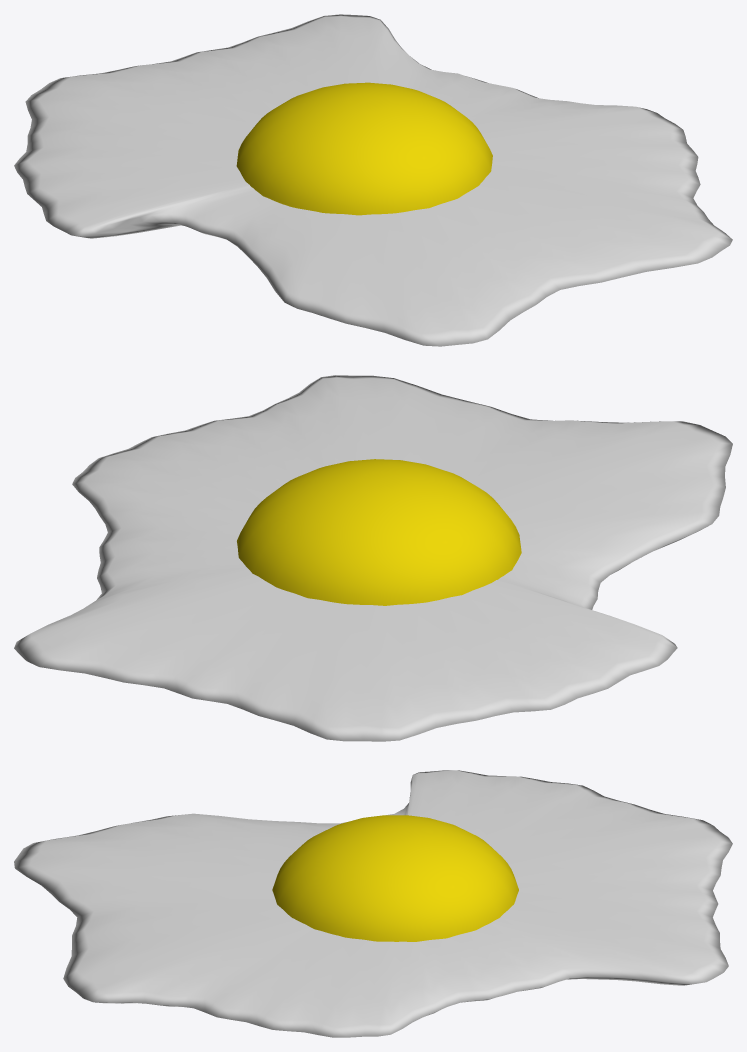
The model's file is EggCracked.fbx.
The picture shows the model from 3 angles, top to bottom: view 1: azimuth 30°, elevation 25°; view 2: azimuth 150°, elevation 25°; view 3: azimuth 270°, elevation 25°; orthographic projection. The views are drawn at different scales.
Parts seen in each view (by area): view 1: Cylinder, Sphere; view 2: Cylinder, Sphere; view 3: Cylinder, Sphere.
Part boxes in pixels (x1,y1,x2,y2): Cylinder: (14,14,732,346); Sphere: (236,82,492,215); Cylinder: (14,375,732,741); Sphere: (237,459,521,605); Cylinder: (14,770,732,1037); Sphere: (272,815,518,941).
Bounding box in the file's own units: 387 × 59.23 × 440.
